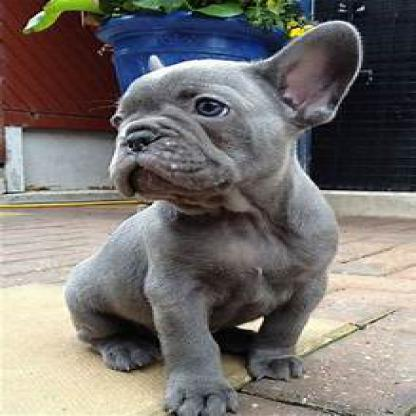dog: (66, 20, 366, 414)
